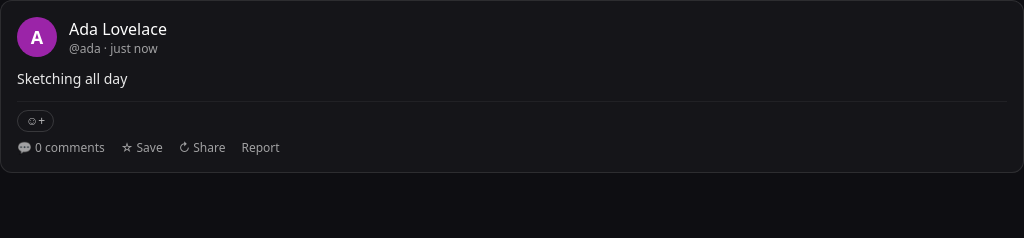
Test: saving a post › says why it couldn't be saved
Step 1. Click the button with aria-label "Save this post" → (142, 148), box [121,140,163,156]
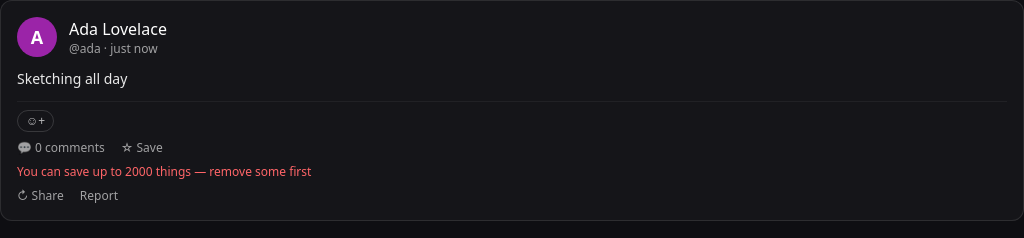
expect the message shows "up to 2000 things": met, box [17,163,311,180]
